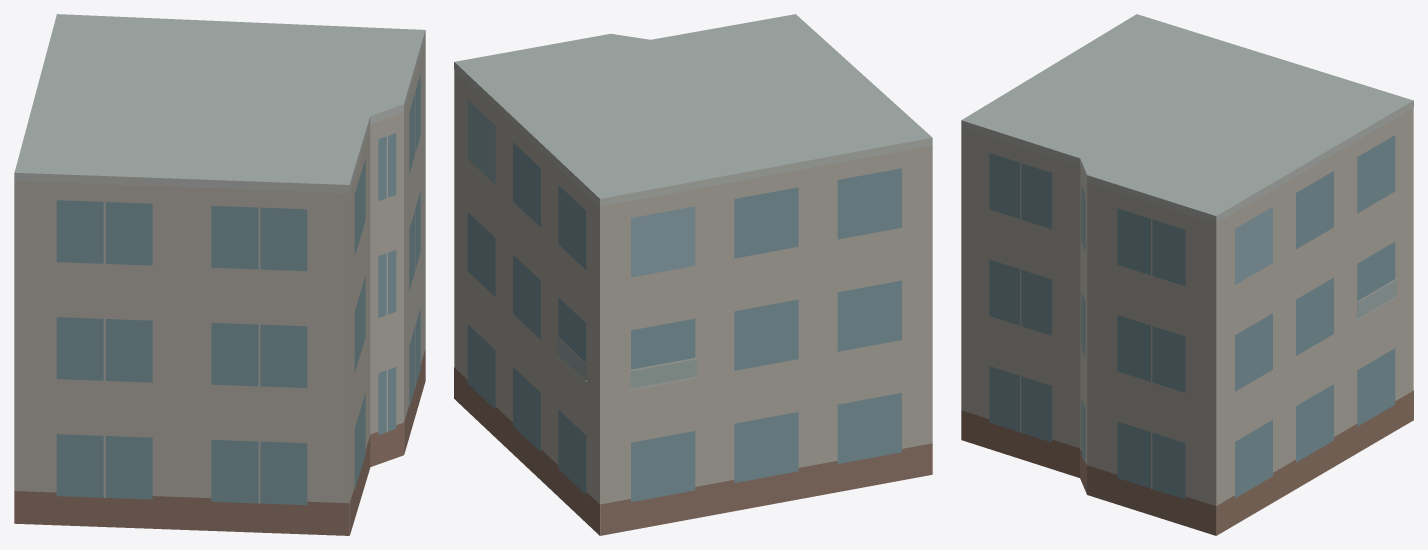
File: survey-upis-32816070.glb
3 views of the same model, side by side, from view 1: azimuth 30°, elevation 25°; view 2: azimuth 150°, elevation 25°; view 3: azimuth 270°, elevation 25° (orthographic). The views are drawn at different scales.
Visible parts, largest first — view 1: survey-upis-32816070.tmp; view 2: survey-upis-32816070.tmp; view 3: survey-upis-32816070.tmp.
Part boxes in pixels (left/top/right/bottom): survey-upis-32816070.tmp: left=14, top=14, right=425, bottom=535; survey-upis-32816070.tmp: left=454, top=14, right=932, bottom=535; survey-upis-32816070.tmp: left=961, top=14, right=1413, bottom=535.
Size of the model in its own units: 14.38 by 10.6 by 13.6.
